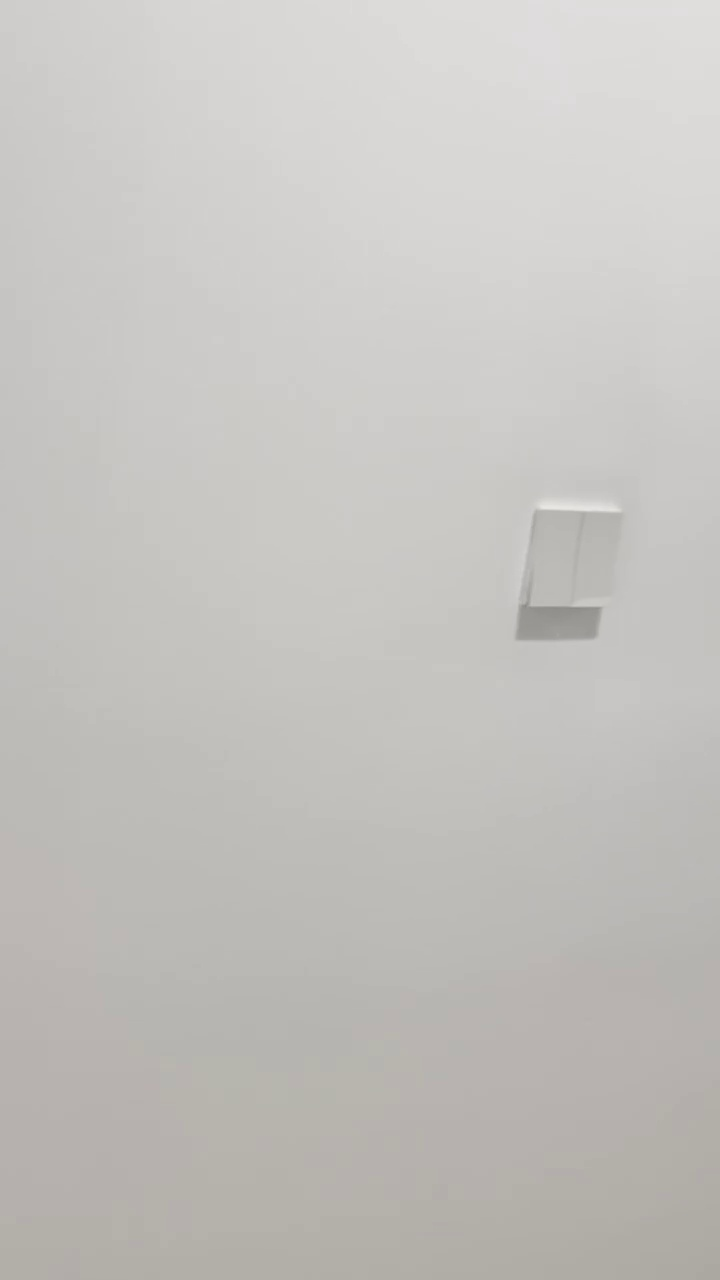button: (517, 501, 627, 612)
